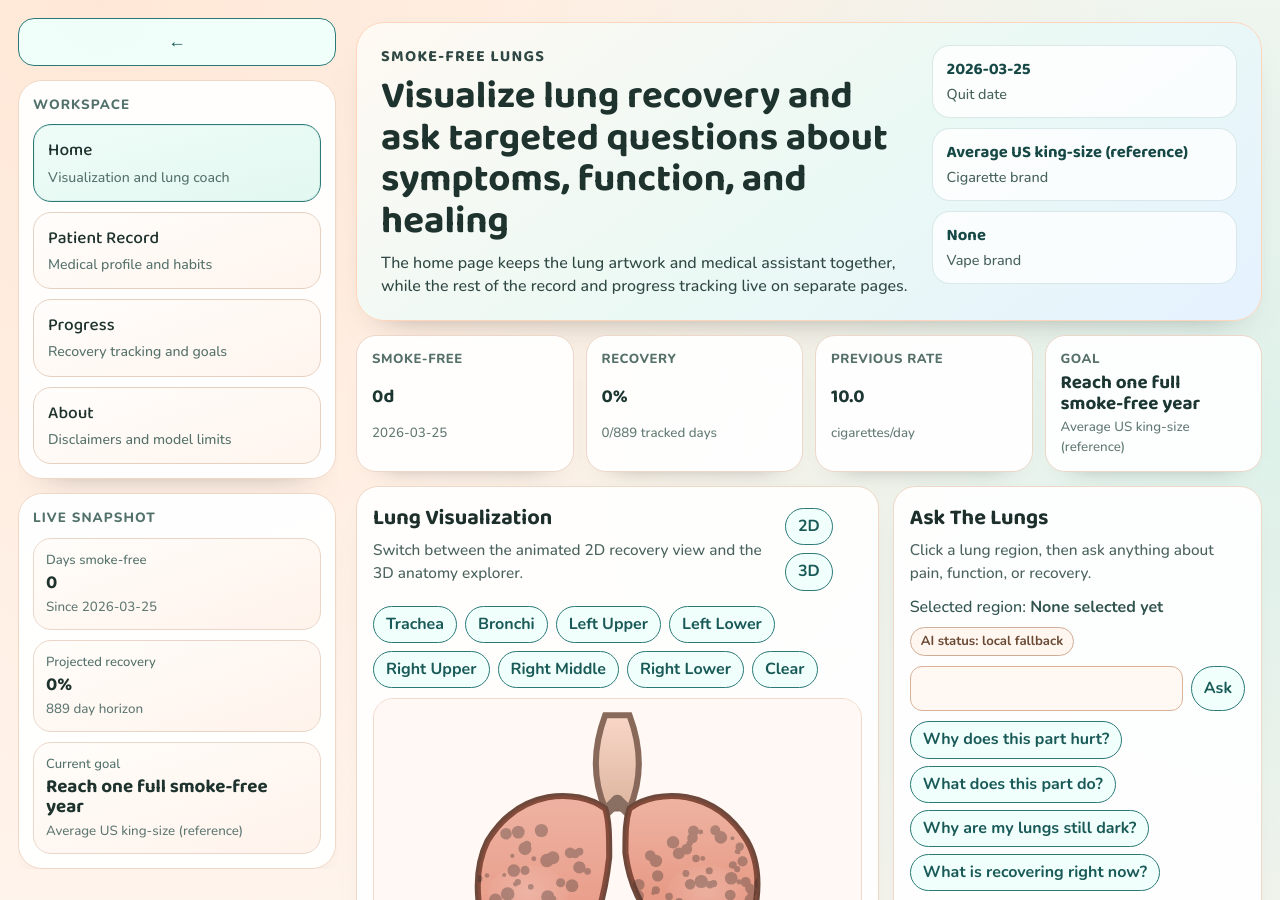
Test case: App › lets the dashboard sidebar collapse and expand
Expected: the button "About Disclaimers and model limits" is shown, [33,387,321,464]
Step 1. Click the button named "collapse sidebar" → click(177, 42), box [18,18,336,66]
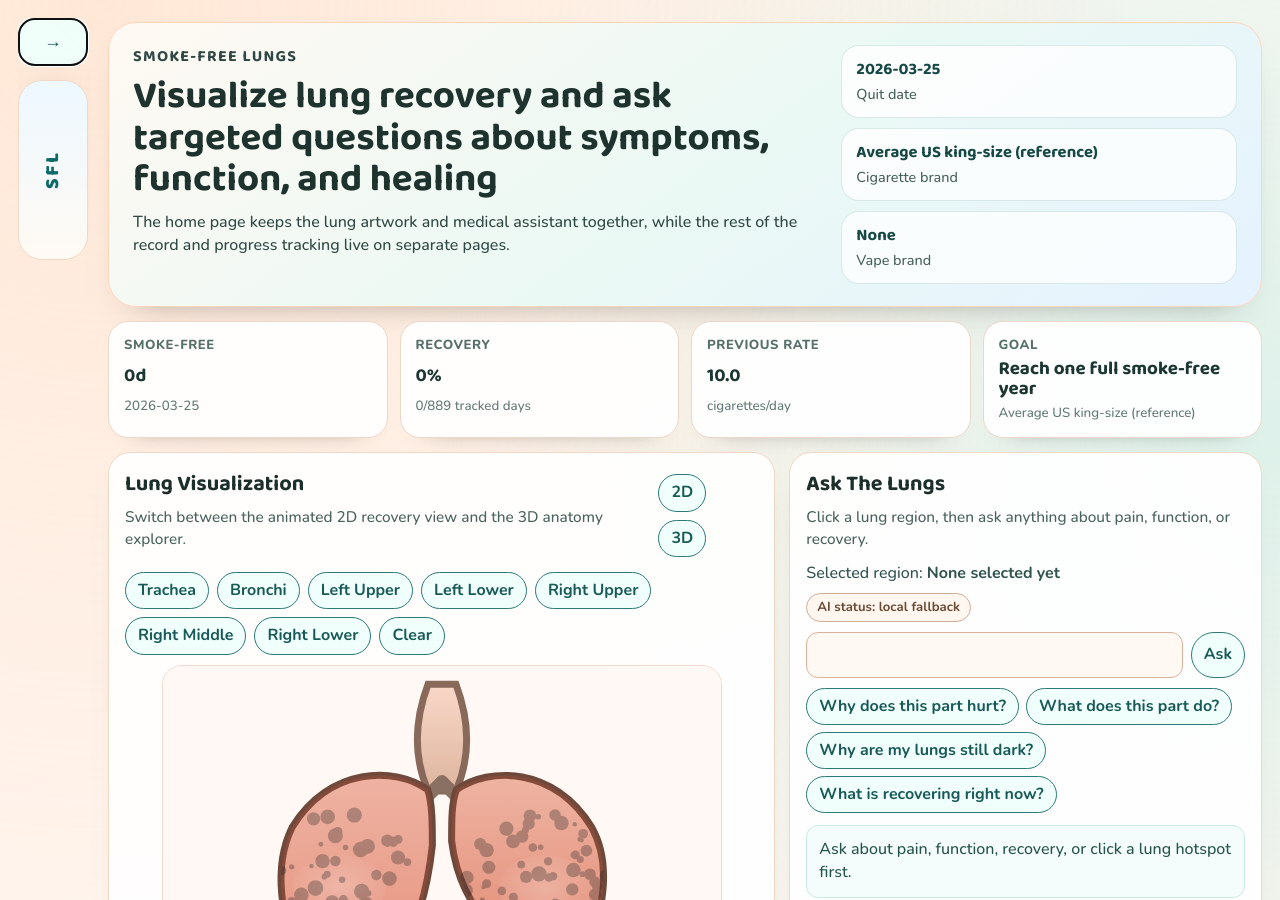
Expected: the button named "expand sidebar" is shown
Step 2. Click the button named "expand sidebar" → click(53, 42), box [18,18,88,66]
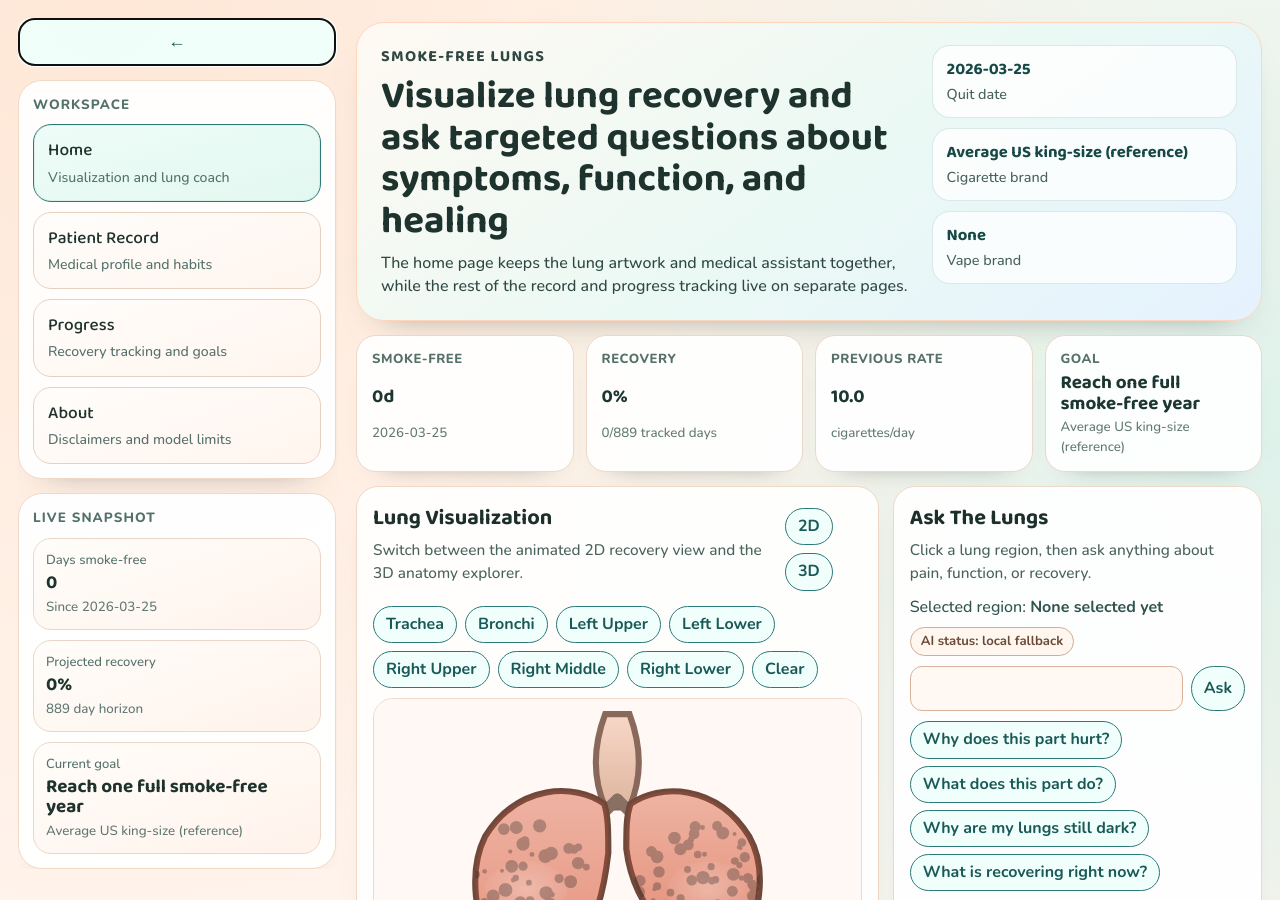
Expected: the button "About Disclaimers and model limits" is shown, [33,387,321,464]
